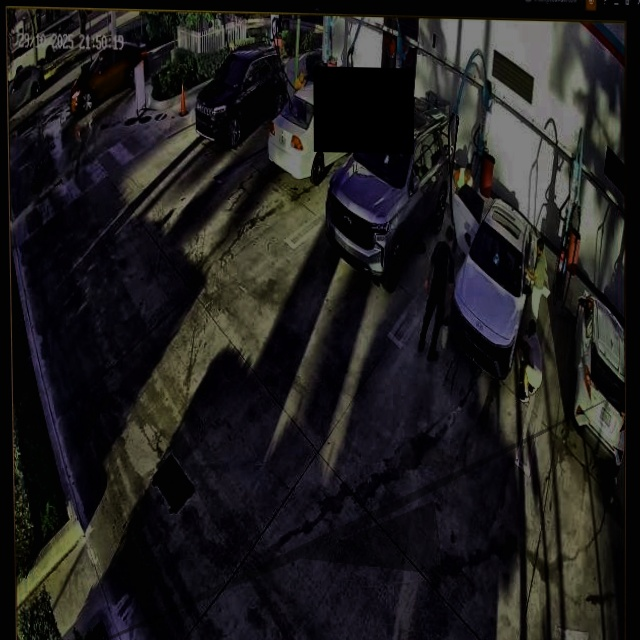Car: (325, 95, 453, 291), (451, 190, 536, 374), (268, 82, 366, 186)
